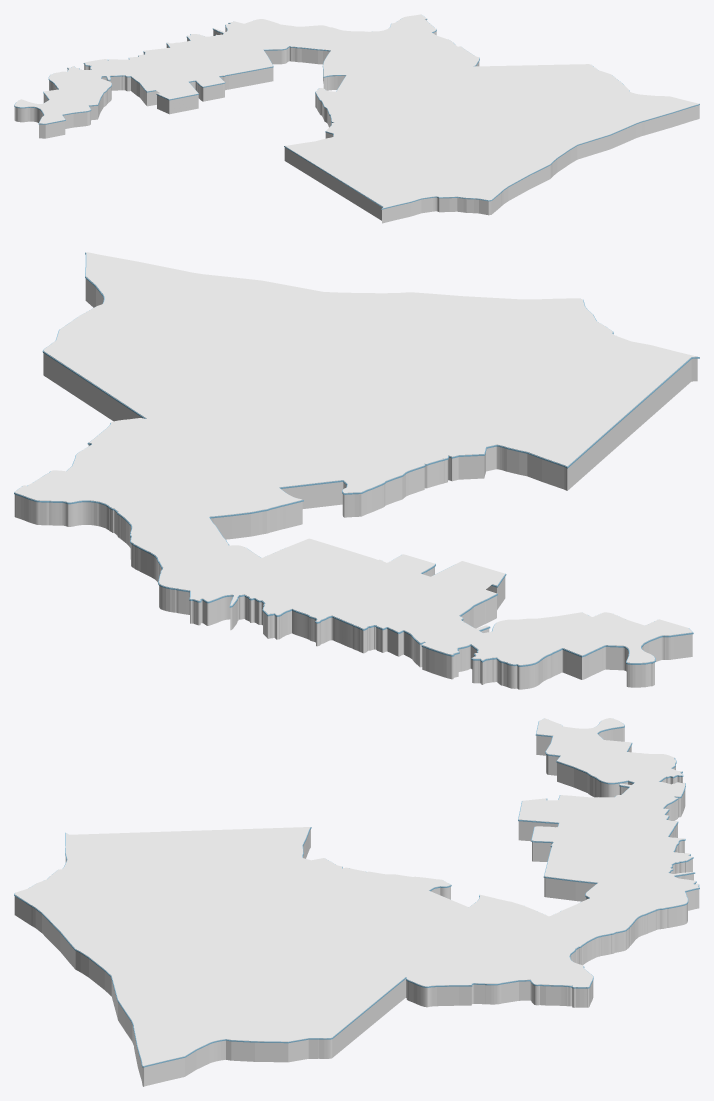
3 views of the same model, one above another, from view 1: azimuth 30°, elevation 25°; view 2: azimuth 150°, elevation 25°; view 3: azimuth 270°, elevation 25° (orthographic). The views are drawn at different scales.
Parts seen in each view (by area): view 1: celling, slide, scan; view 2: celling, slide, scan; view 3: celling, slide, scan.
Boxes of the visible parts, <box> form: celling: <box>14,14,698,208</box>; slide: <box>14,19,699,223</box>; scan: <box>14,16,699,209</box>; celling: <box>15,252,696,664</box>; slide: <box>14,277,697,689</box>; scan: <box>14,252,699,666</box>; celling: <box>15,718,698,1065</box>; slide: <box>14,726,699,1086</box>; scan: <box>14,721,699,1067</box>.
Size of the model in its own units: 10797 by 300 by 8978.
